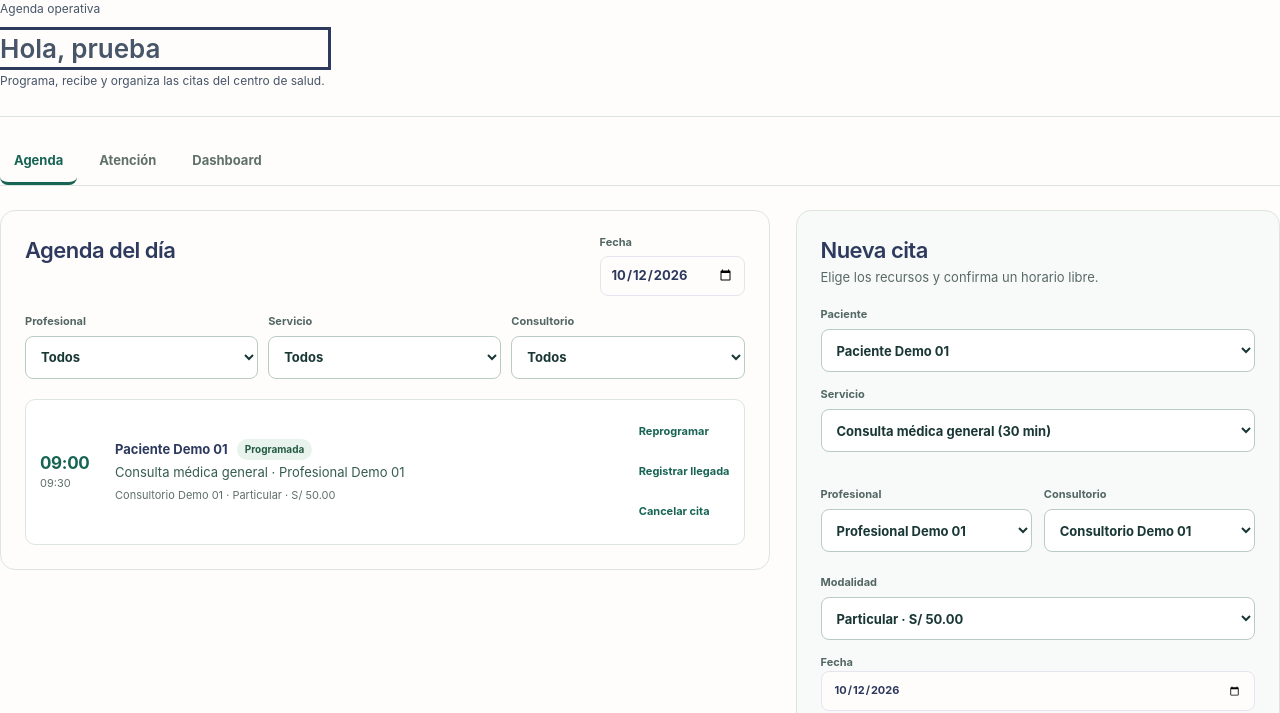
Test: Agenda de citas › cancela una cita con motivo y muestra la advertencia economica
This screenshot has width=1280, height=713.
Click the button "Cancelar cita" at coordinates (674, 512), box [639,492,710,530]
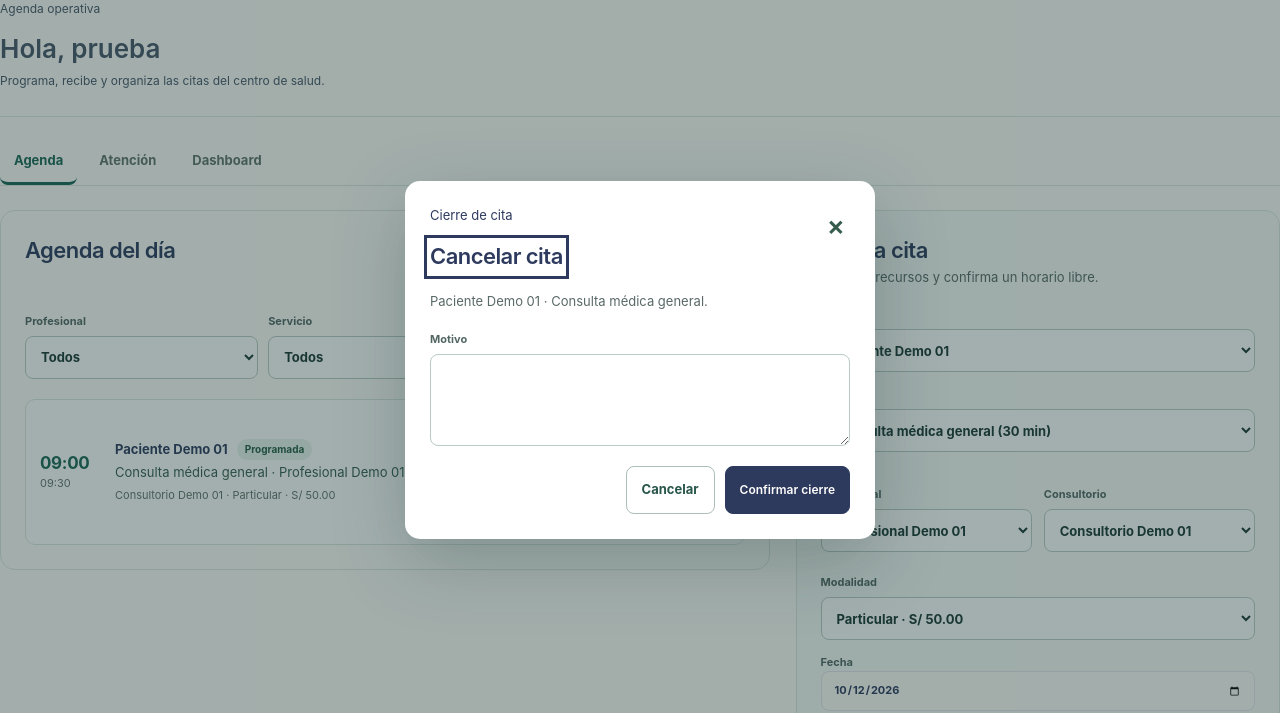
Type "Solicitud del paciente" into the text box labelled "Motivo" at coordinates (640, 400), box [430,354,850,446]
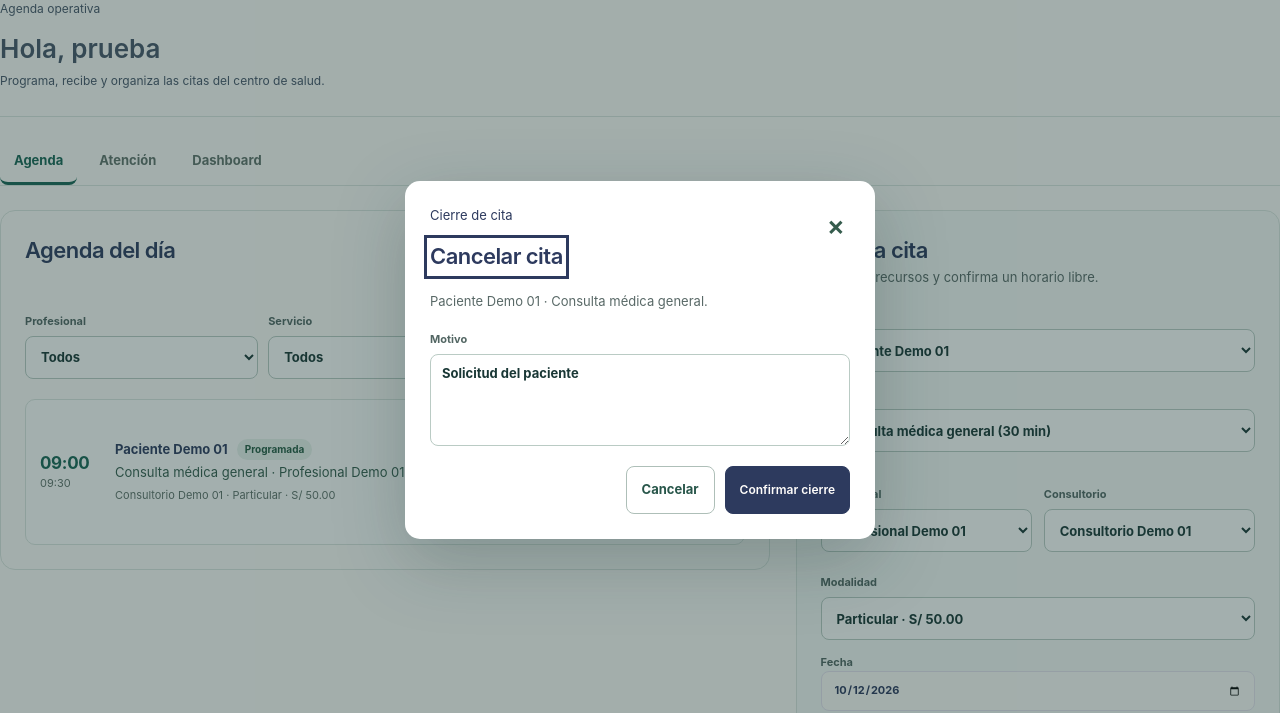
Click the button "Confirmar cierre" at coordinates (787, 490), box [725,466,850,514]
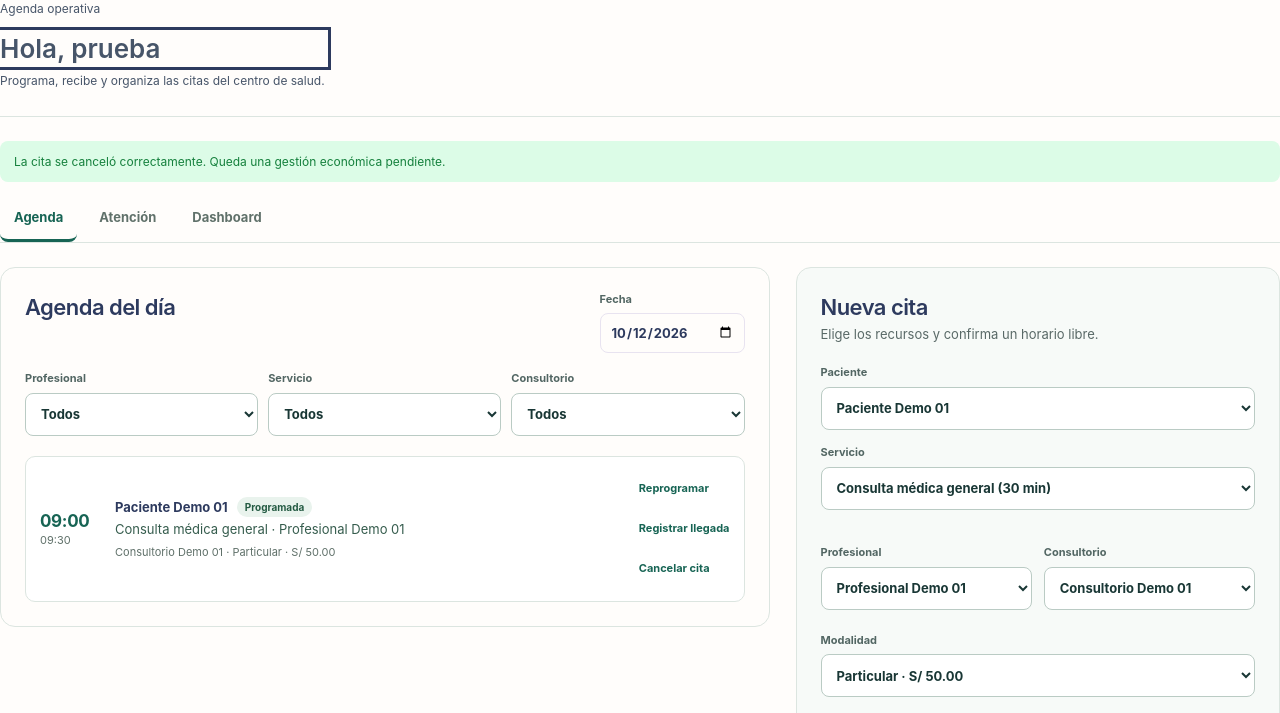
Now the text "La cita se canceló correctamente. Queda una gestión económica pendiente." is shown, box [0,141,1279,182]
